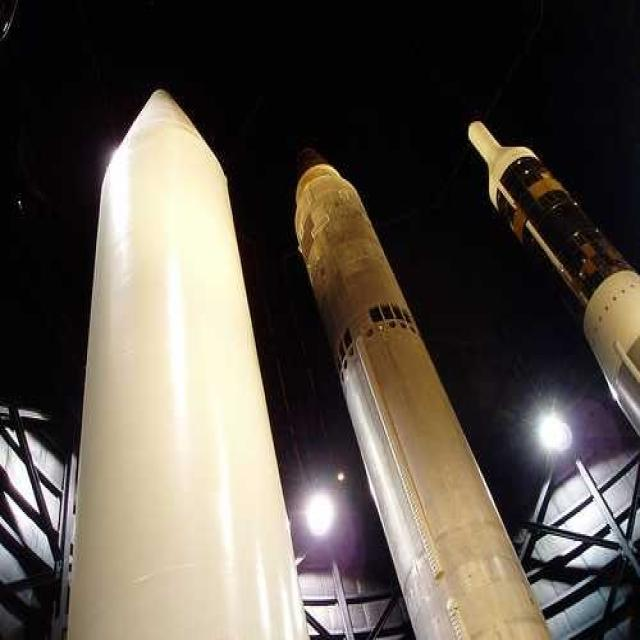missile: (63, 87, 300, 640)
